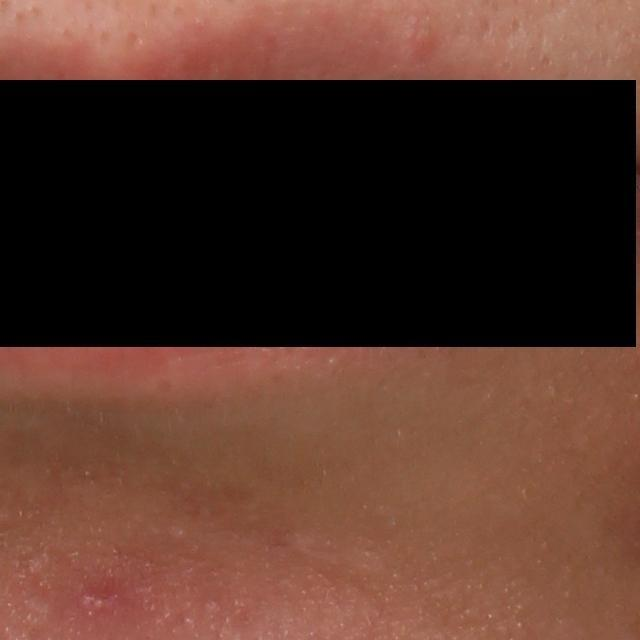papule: (82, 583, 112, 616)
